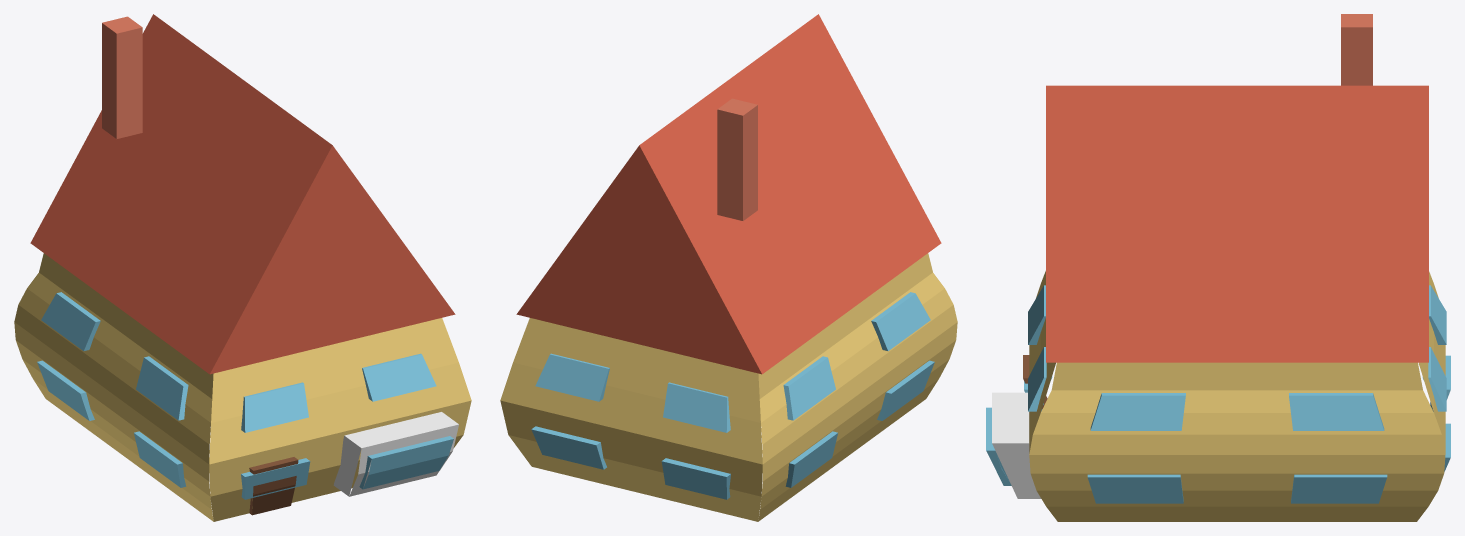
Rendered from house_3.glb.
3 views of the same model, side by side, from view 1: azimuth 30°, elevation 25°; view 2: azimuth 150°, elevation 25°; view 3: azimuth 270°, elevation 25° (orthographic). The views are drawn at different scales.
Visible parts, largest first — view 1: house_3_roof_red, house_3_wall_yellow, house_3_window, house_3_brick, house_3_white, house_3_door; view 2: house_3_roof_red, house_3_wall_yellow, house_3_window, house_3_brick; view 3: house_3_roof_red, house_3_wall_yellow, house_3_window, house_3_white, house_3_brick.
Part boxes in pixels (box(x1,y1,x2,y2)): house_3_roof_red: box(30, 14, 455, 374); house_3_wall_yellow: box(14, 253, 471, 521); house_3_window: box(37, 292, 453, 499); house_3_brick: box(102, 16, 142, 138); house_3_white: box(333, 412, 458, 496); house_3_door: box(249, 457, 298, 515); house_3_roof_red: box(516, 14, 941, 374); house_3_wall_yellow: box(500, 253, 957, 521); house_3_window: box(531, 292, 934, 499); house_3_brick: box(717, 98, 757, 220); house_3_roof_red: box(1046, 85, 1428, 362); house_3_wall_yellow: box(1029, 271, 1445, 521); house_3_window: box(986, 285, 1450, 503); house_3_white: box(992, 392, 1041, 498); house_3_brick: box(1341, 14, 1372, 85).
Bounding box in the file's own units: 8.74 × 11.75 × 12.12.
